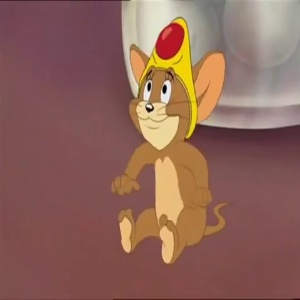Jerry: (118, 18, 226, 147)
